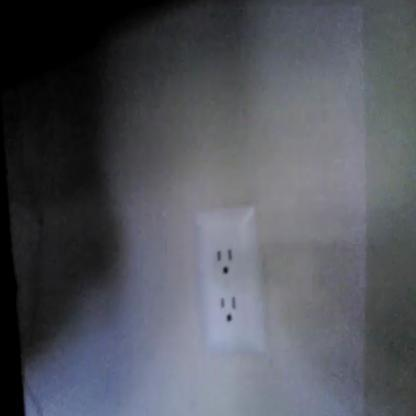OUTLET: (195, 208, 265, 354)
